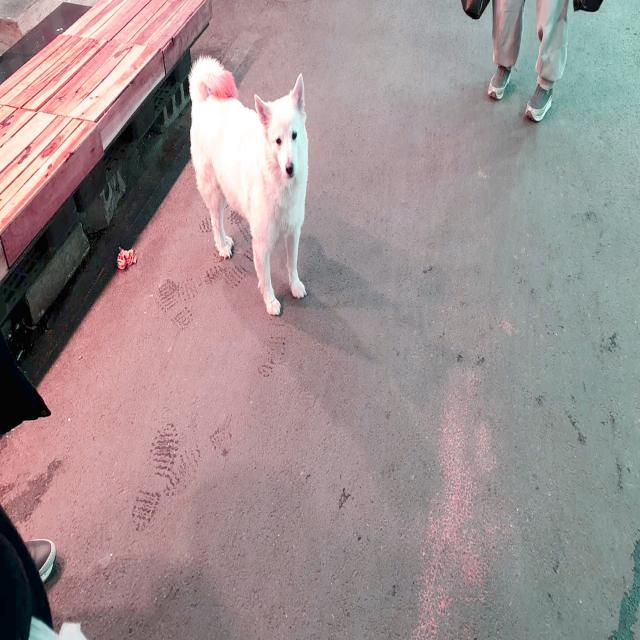Dog: (188, 56, 309, 316)
